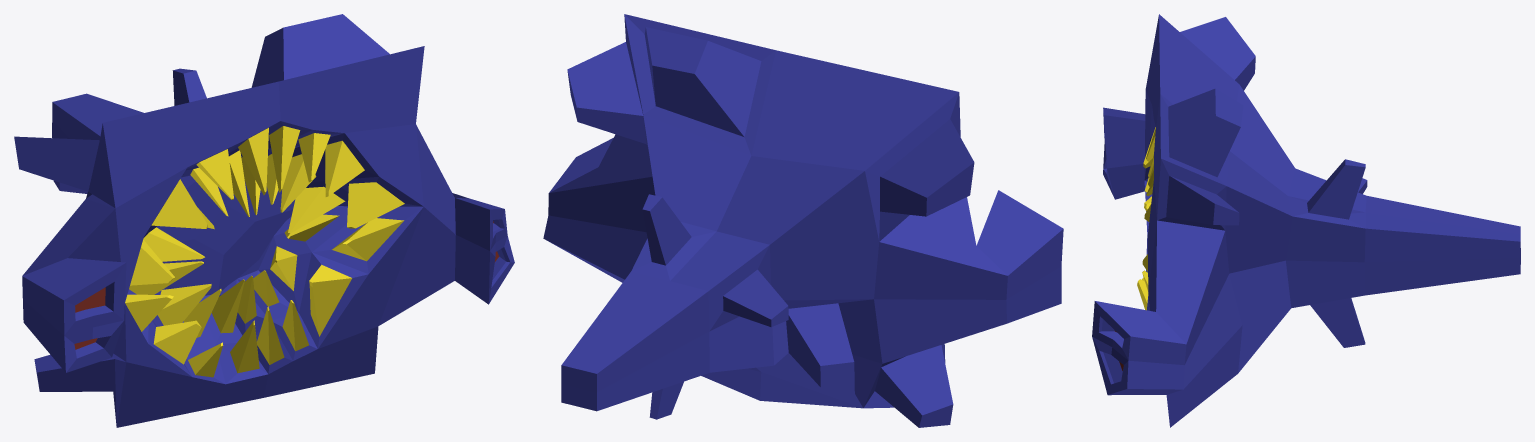
File: monsterTeeth.glb
3 renders of one model, left to right at view 1: azimuth 30°, elevation 25°; view 2: azimuth 150°, elevation 25°; view 3: azimuth 270°, elevation 25°, orthographic. The views are drawn at different scales.
Parts seen in each view (by area): view 1: Cube; view 2: Cube; view 3: Cube.
Boxes of the visible parts, x1,y1,x2,y2 form: Cube: (14,14,514,427); Cube: (543,14,1063,427); Cube: (1092,14,1520,427).
Size of the model in its own units: 6.9 by 4.98 by 6.12.
Materials: 1 (1 with a texture image).
